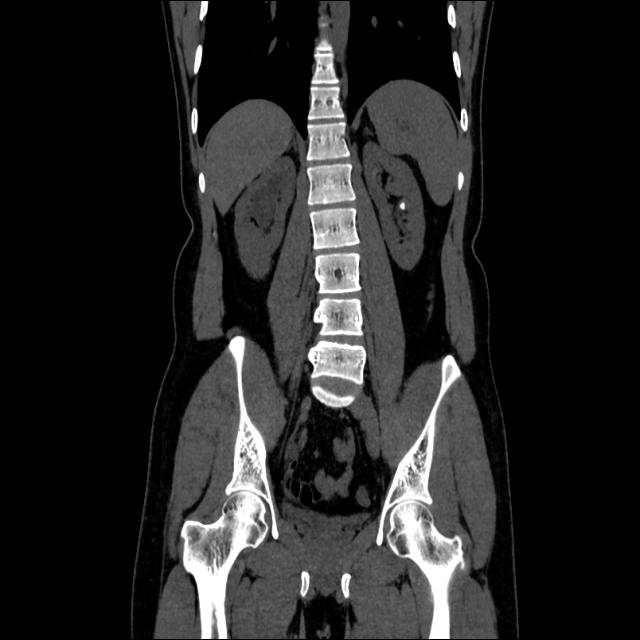kidney: (364, 143, 430, 276), (236, 153, 304, 278)
stone: (397, 198, 408, 212)
